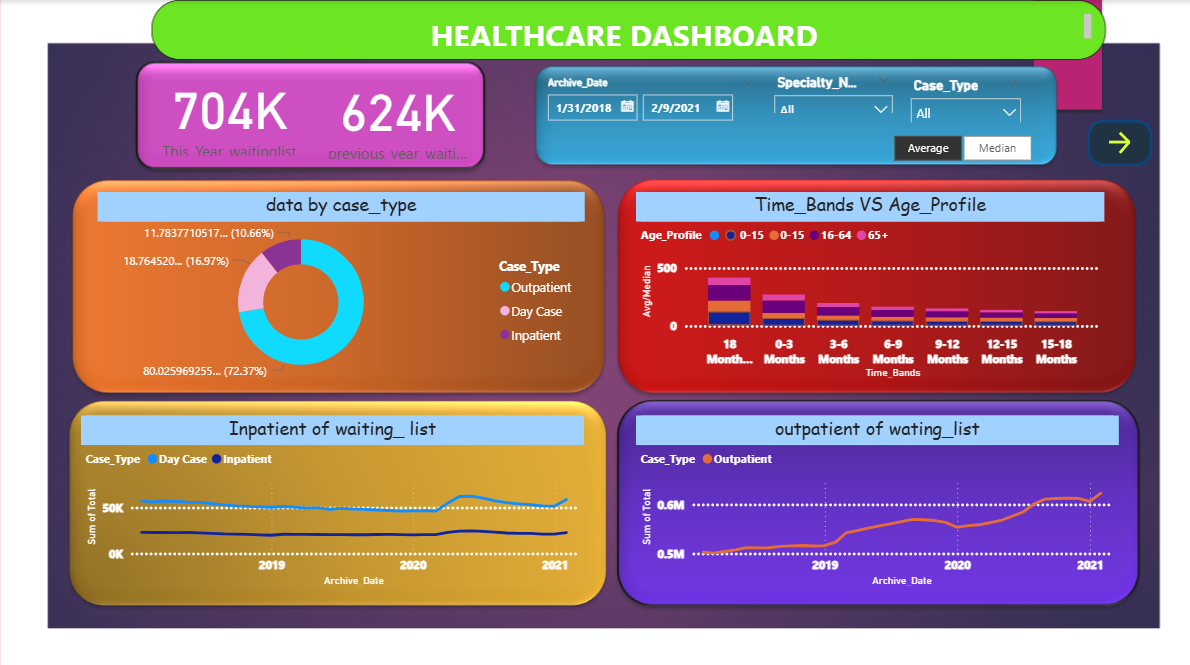

What the dashboard file says about the page in this screenshot:
{"tool":"powerbi","page":{"name":"HEALTHCARE DETAILS","canvas":[1280,720],"ordinal":0},"visuals":[{"type":"card","fields":{"Values":["All_Data.This_Year_waitinglist"]},"box":[148.3,73.3,190,96.7],"z":0},{"type":"card","fields":{"Values":["All_Data.previous_year_waitinglist"]},"box":[338.3,73.3,165,100],"z":1000},{"type":"slicer","fields":{"Values":["Calculation_Method.Cacl_Method"]},"box":[923.3,136.7,195,40],"z":2000},{"type":"donutChart","title":"data by case_type","fields":{"Category":["All_Data.Case_Type"],"Y":["All_Data.Avg/Median"]},"box":[103.3,203.3,516.7,206.7],"z":3000},{"type":"columnChart","title":"Time_Bands VS Age_Profile","fields":{"Y":["All_Data.Avg/Median"],"Series":["All_Data.Age_Profile"],"Category":["All_Data.Time_Bands"]},"box":[675,203.3,496.7,201.7],"z":4000},{"type":"lineChart","title":"Inpatient of  waiting_ list","fields":{"Y":["Sum(All_Data.Total)"],"Category":["All_Data.Archive_Date"],"Series":["All_Data.Case_Type"]},"box":[86.7,440,533.3,185],"z":5000},{"type":"lineChart","title":"outpatient of wating_list","fields":{"Y":["Sum(All_Data.Total)"],"Category":["All_Data.Archive_Date"],"Series":["All_Data.Case_Type"]},"box":[675,440,511.7,185],"z":6000},{"type":"slicer","fields":{"Values":["All_Data.Specialty_Name"]},"box":[811.7,73.3,145,46.7],"z":7000},{"type":"slicer","fields":{"Values":["All_Data.Archive_Date"]},"box":[568.3,76.7,243.3,68.3],"z":8000},{"type":"slicer","fields":{"Values":["All_Data.Case_Type"]},"box":[956.7,76.7,136.7,53.3],"z":9000},{"type":"actionButton","box":[1153.3,126.7,68.3,48.3],"z":10000},{"type":"textbox","box":[160,0,1011.7,63.3],"z":11000}]}

Visuals, with their boxes in screenshot pixels (x1, y1, x2, y2), scaled from the page's 1280x720 canvas onto the 1190x665 screenshot:
card - All_Data.This_Year_waitinglist: left=138, top=68, right=315, bottom=157
card - All_Data.previous_year_waitinglist: left=315, top=68, right=468, bottom=160
slicer - Calculation_Method.Cacl_Method: left=858, top=126, right=1040, bottom=163
"data by case_type" donutChart: left=96, top=188, right=576, bottom=379
"Time_Bands VS Age_Profile" columnChart: left=628, top=188, right=1089, bottom=374
"Inpatient of  waiting_ list" lineChart: left=81, top=406, right=576, bottom=577
"outpatient of wating_list" lineChart: left=628, top=406, right=1103, bottom=577
slicer - All_Data.Specialty_Name: left=755, top=68, right=889, bottom=111
slicer - All_Data.Archive_Date: left=528, top=71, right=755, bottom=134
slicer - All_Data.Case_Type: left=889, top=71, right=1017, bottom=120
actionButton: left=1072, top=117, right=1136, bottom=162
textbox: left=149, top=0, right=1089, bottom=58
